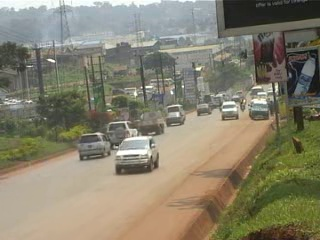Car: (111, 134, 162, 176), (75, 130, 112, 161), (220, 101, 240, 122), (164, 110, 186, 126), (196, 101, 212, 117)
Motorcycle: (240, 102, 245, 112)
